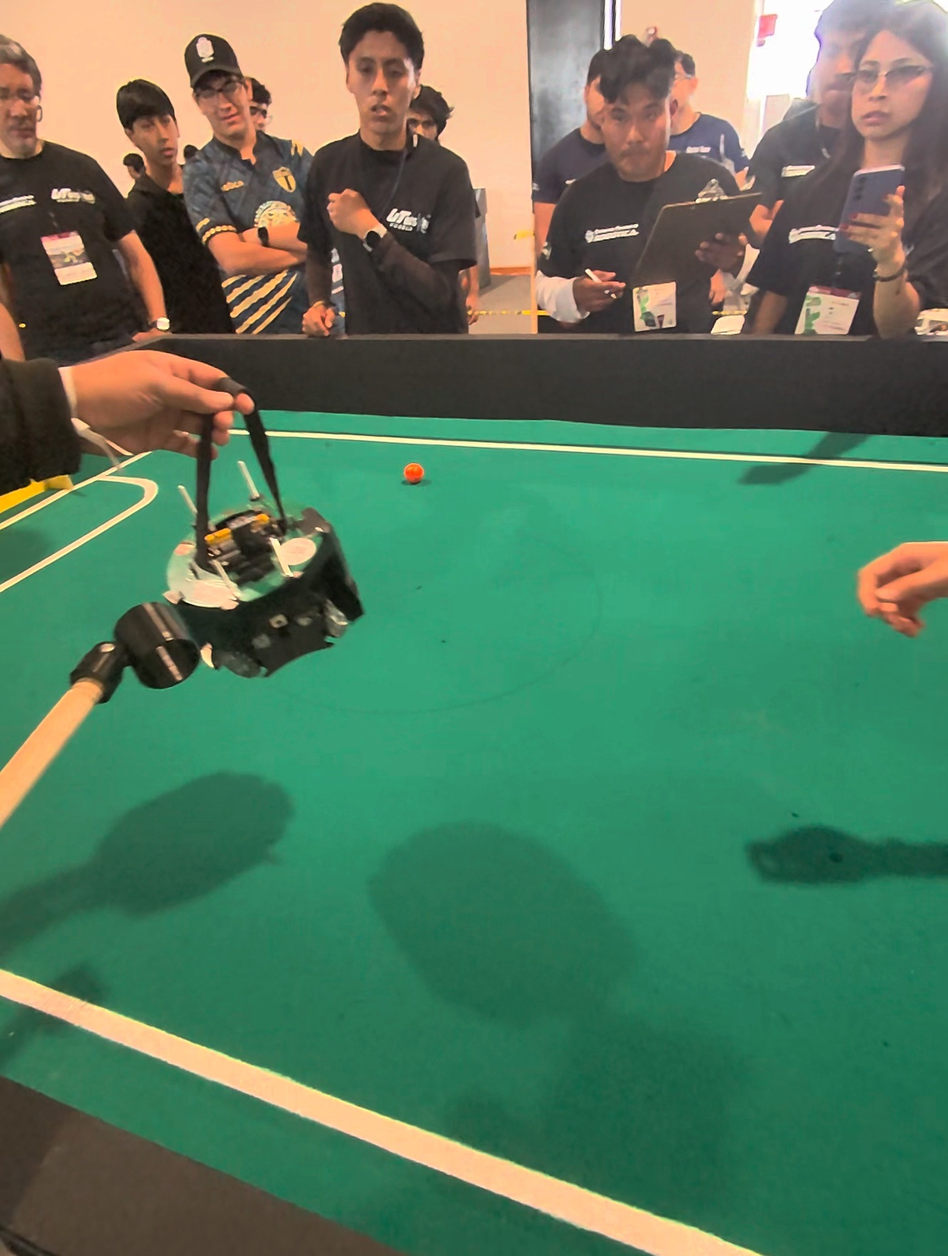Robot: (160, 369, 383, 683)
pelota: (388, 454, 439, 507)
